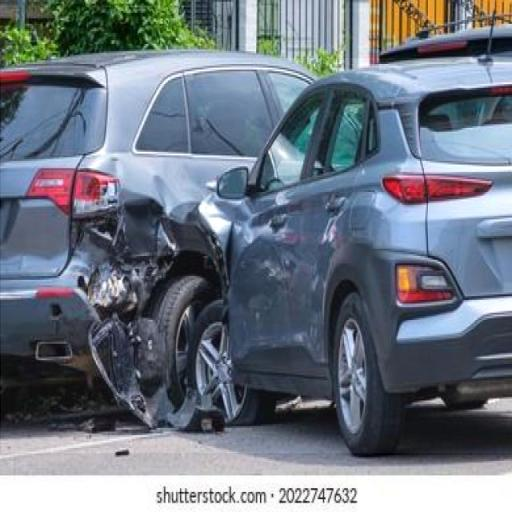小汽车撞小汽车: (1, 58, 512, 453)
